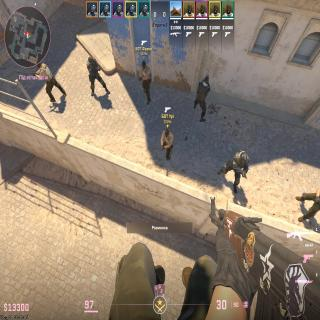CT-Body: (223, 150, 249, 183), (197, 76, 210, 116), (86, 56, 100, 93)
CT-Head: (240, 154, 248, 167), (88, 56, 95, 65), (204, 75, 210, 84)
T-Body: (36, 62, 64, 100), (301, 186, 320, 220), (140, 60, 152, 100), (160, 127, 174, 157)
T-Head: (164, 128, 170, 137), (142, 60, 146, 69), (37, 62, 41, 68)
